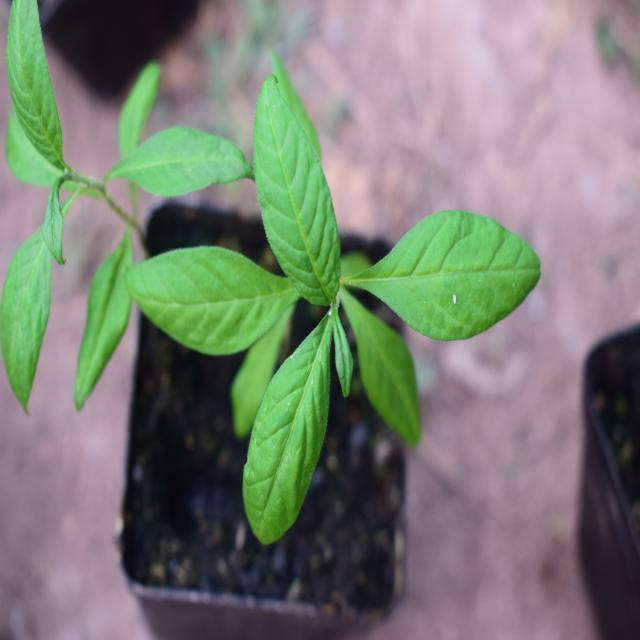white_smart_weed: (168, 70, 538, 528), (0, 20, 223, 382)
